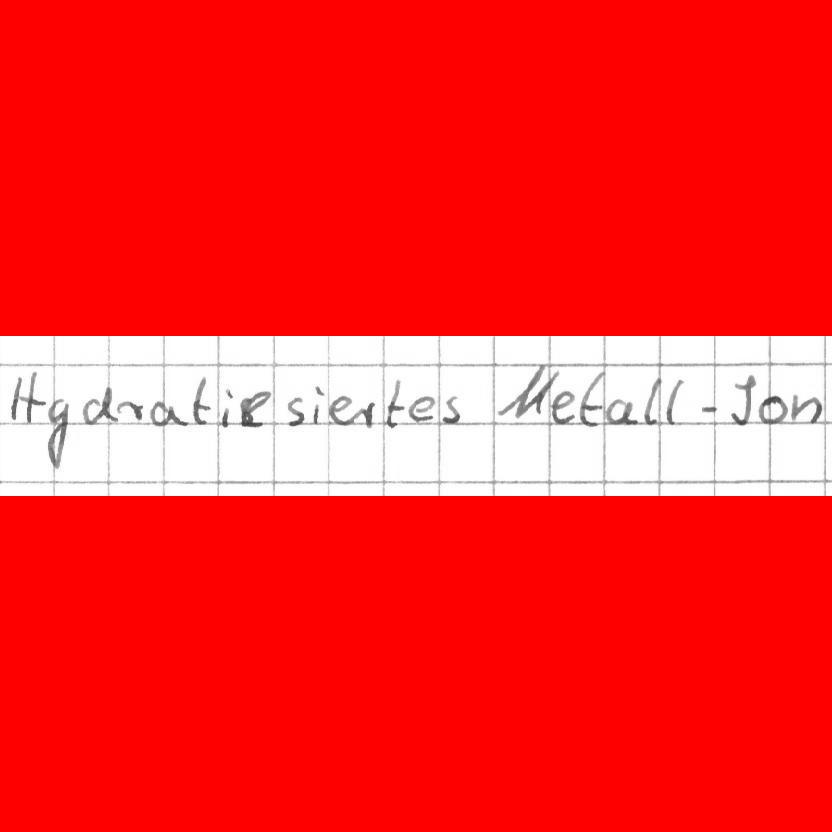Char: (499, 366, 556, 422), (42, 394, 72, 473), (10, 370, 42, 424), (577, 371, 605, 428), (726, 376, 756, 427), (81, 383, 116, 424), (786, 392, 823, 426), (238, 389, 267, 428), (190, 376, 212, 426), (383, 378, 404, 430), (642, 377, 662, 427), (665, 379, 685, 427), (757, 392, 786, 425), (149, 399, 184, 426), (549, 390, 576, 425), (409, 394, 437, 424), (329, 394, 356, 425), (606, 395, 634, 424), (439, 392, 462, 425), (285, 395, 306, 427), (118, 398, 144, 422), (311, 385, 325, 425), (221, 388, 235, 427), (359, 398, 379, 425), (697, 399, 720, 416)
